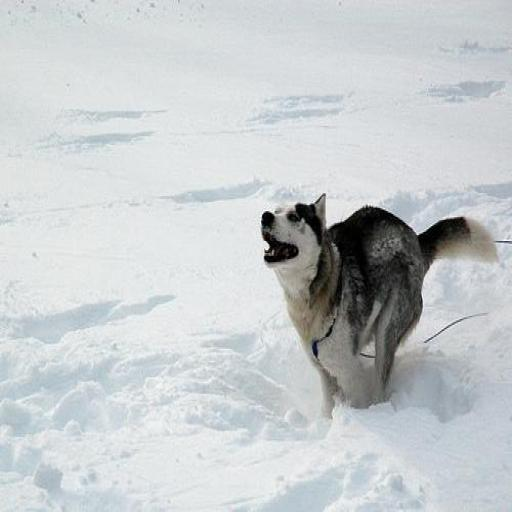dog_face: (254, 190, 332, 270)
